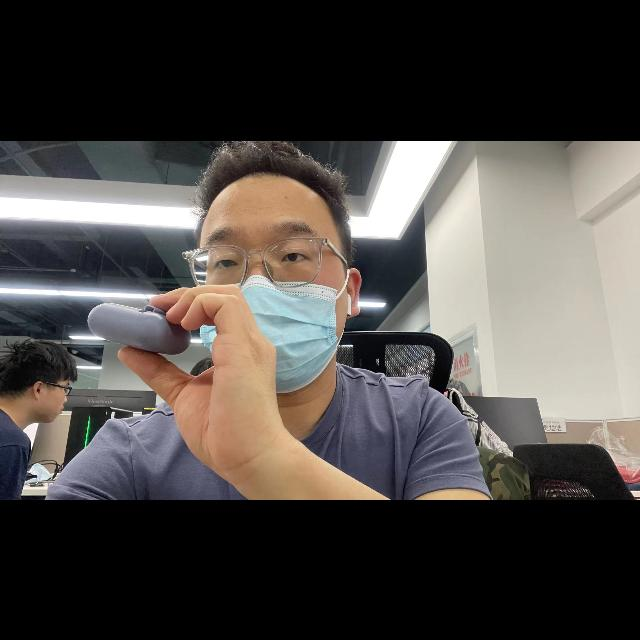airpods: (88, 303, 190, 354)
